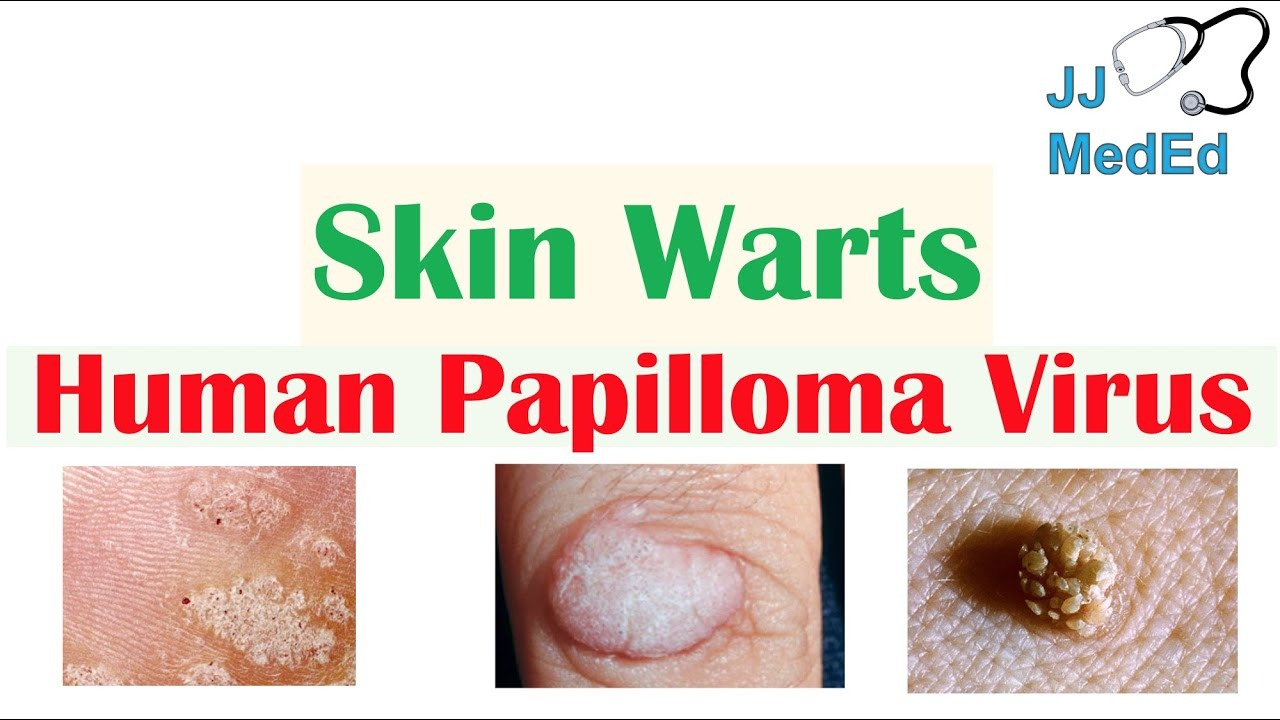Warts: (64, 468, 357, 685), (995, 497, 1167, 655)
